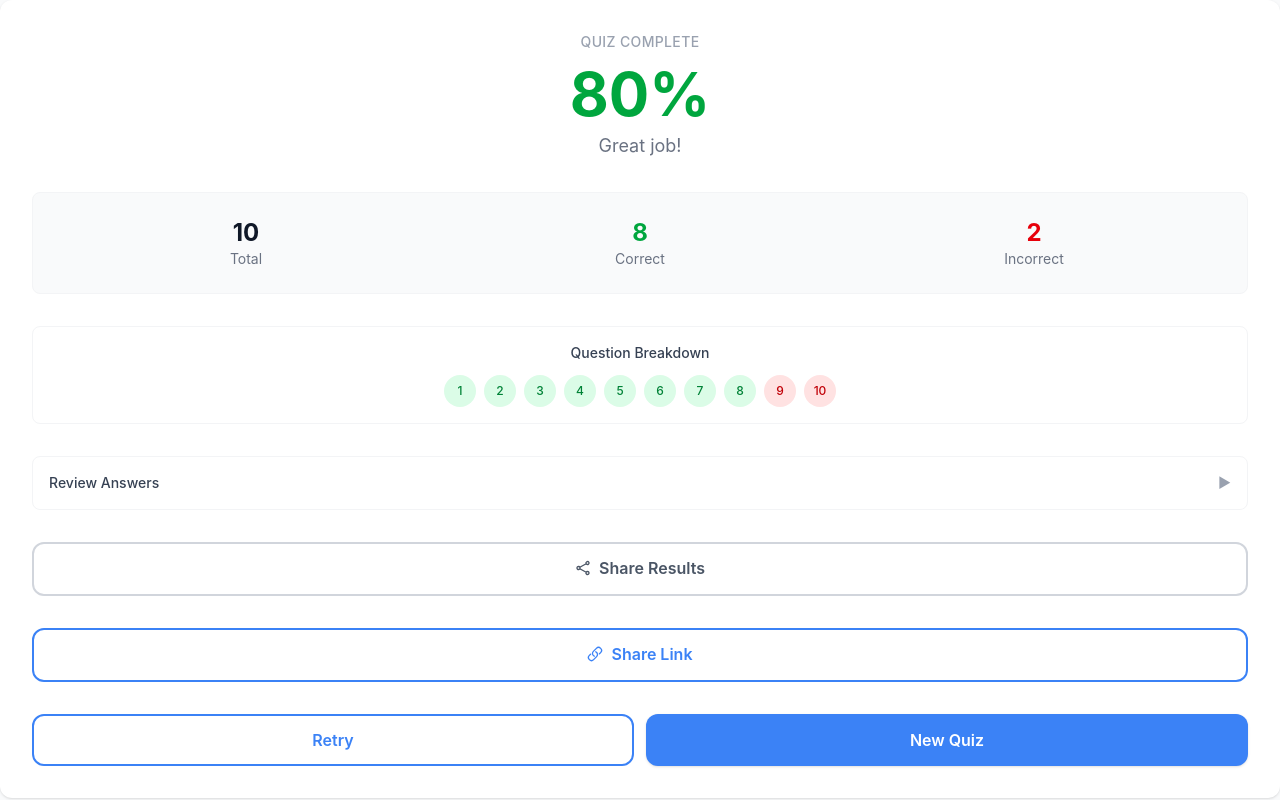
QuizResults — Share Link button (AC-001, AC-007, AC-021) › AC-006: shows Link Copied feedback after clicking Share Link
Step 1. Click the button "Share Link" → (640,655), box [32, 628, 1248, 682]
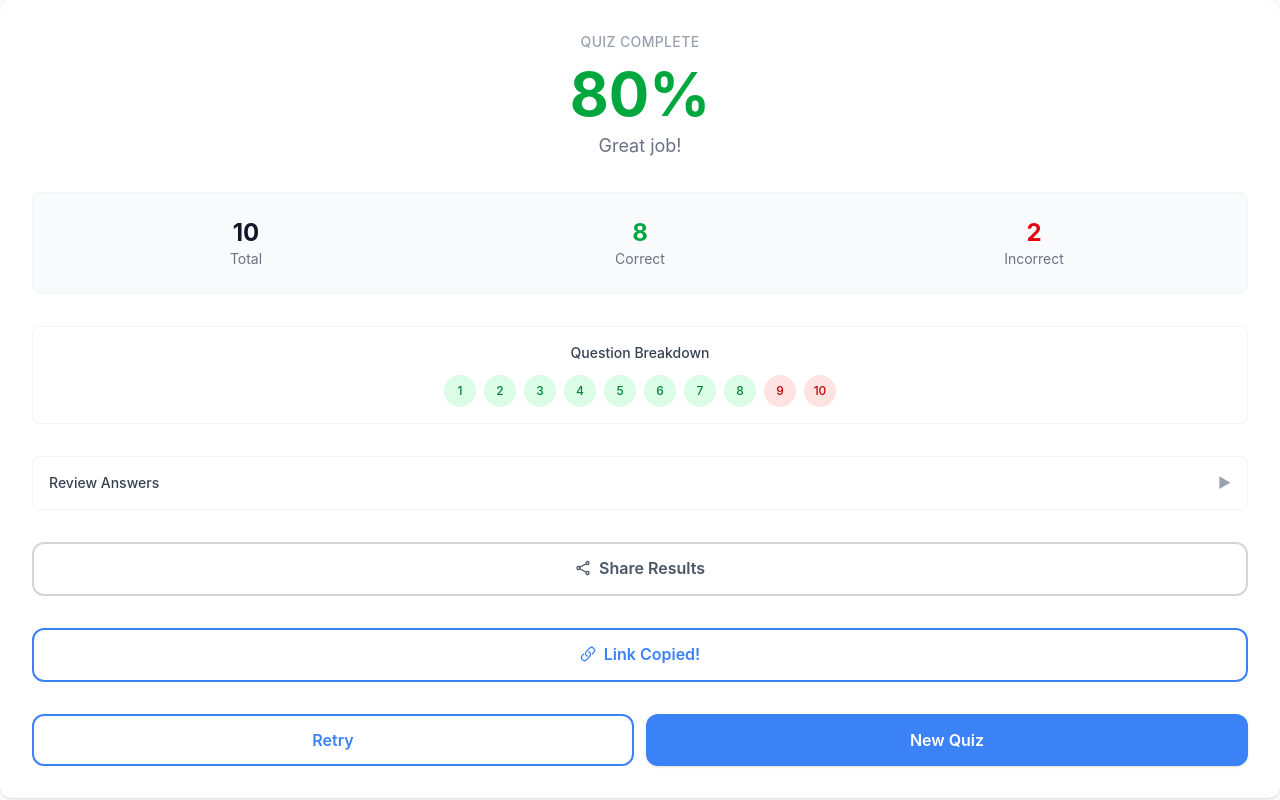
Result: the text "Link Copied!" is shown at [580, 642, 700, 666]
